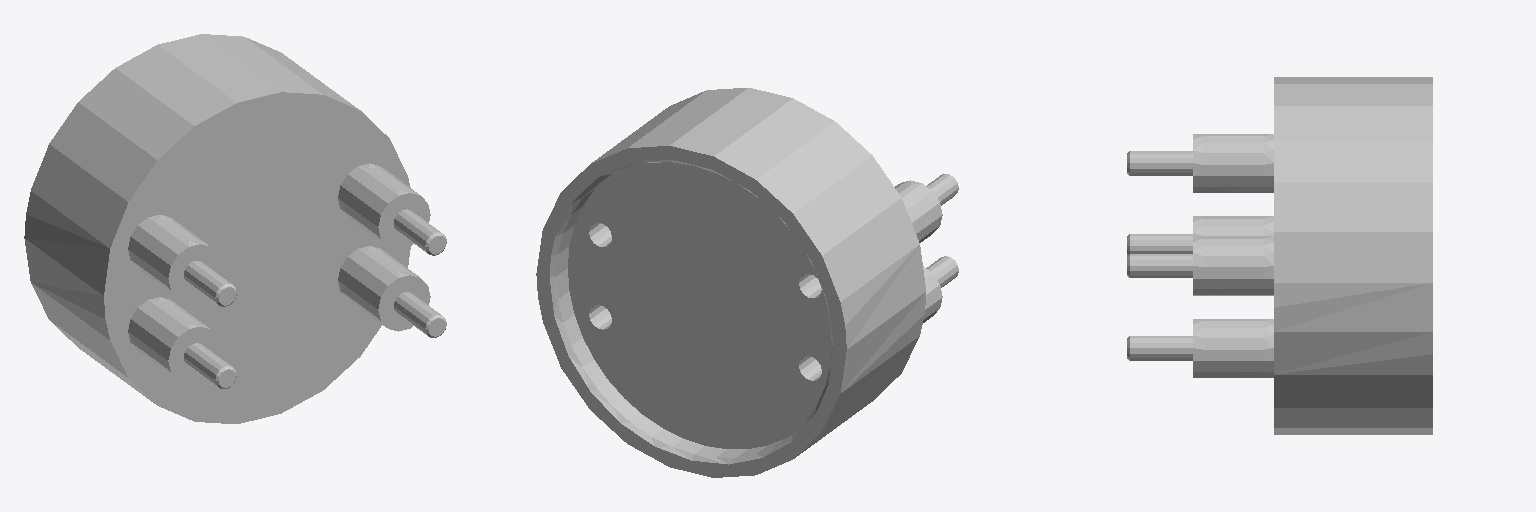
The model's file is flange_iso_04.obj.
3 renders of one model, left to right at view 1: azimuth 30°, elevation 25°; view 2: azimuth 150°, elevation 25°; view 3: azimuth 270°, elevation 25°, orthographic.
Bounding box in the file's own units: 71 × 70.28 × 60.5.